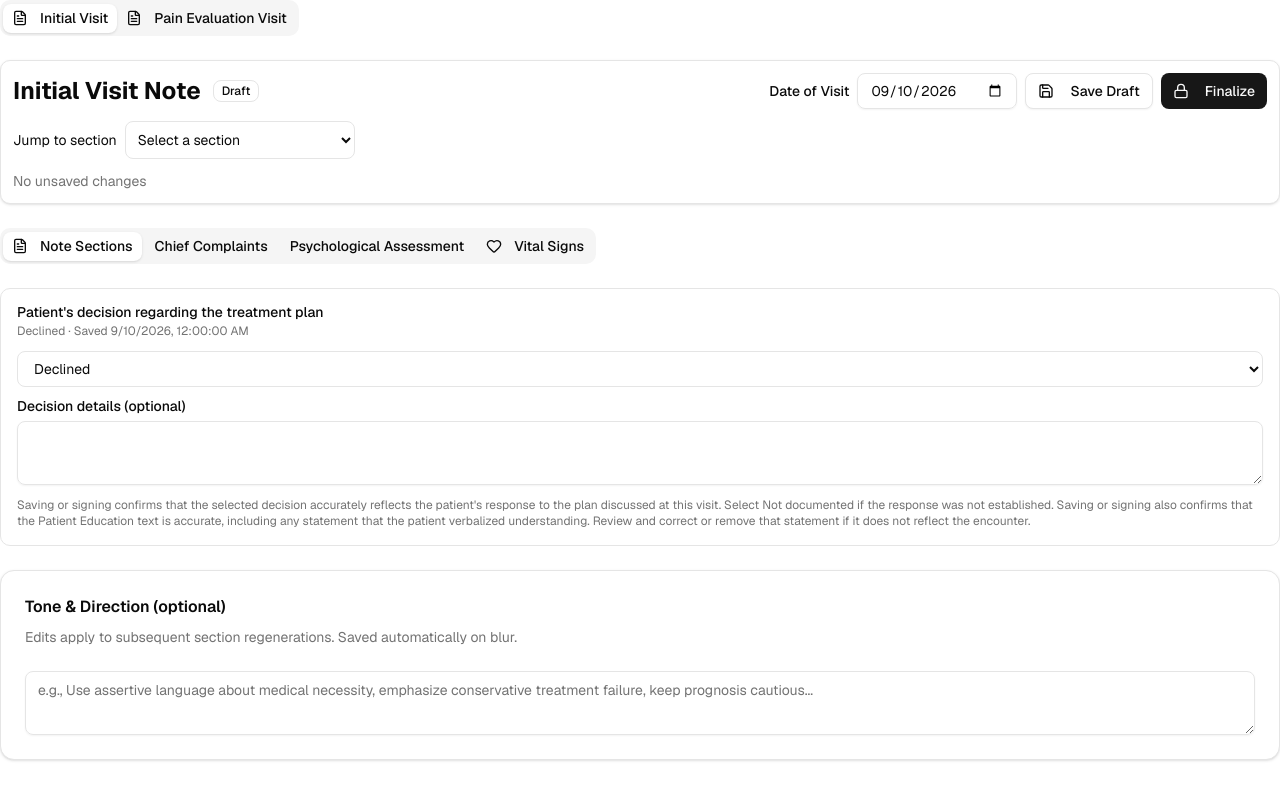
Test case: distinguishes initial_visit finalization failure after a successful save
Click the button "Finalize" at (1214, 91), box x1=1161 y1=73 x2=1267 y2=109
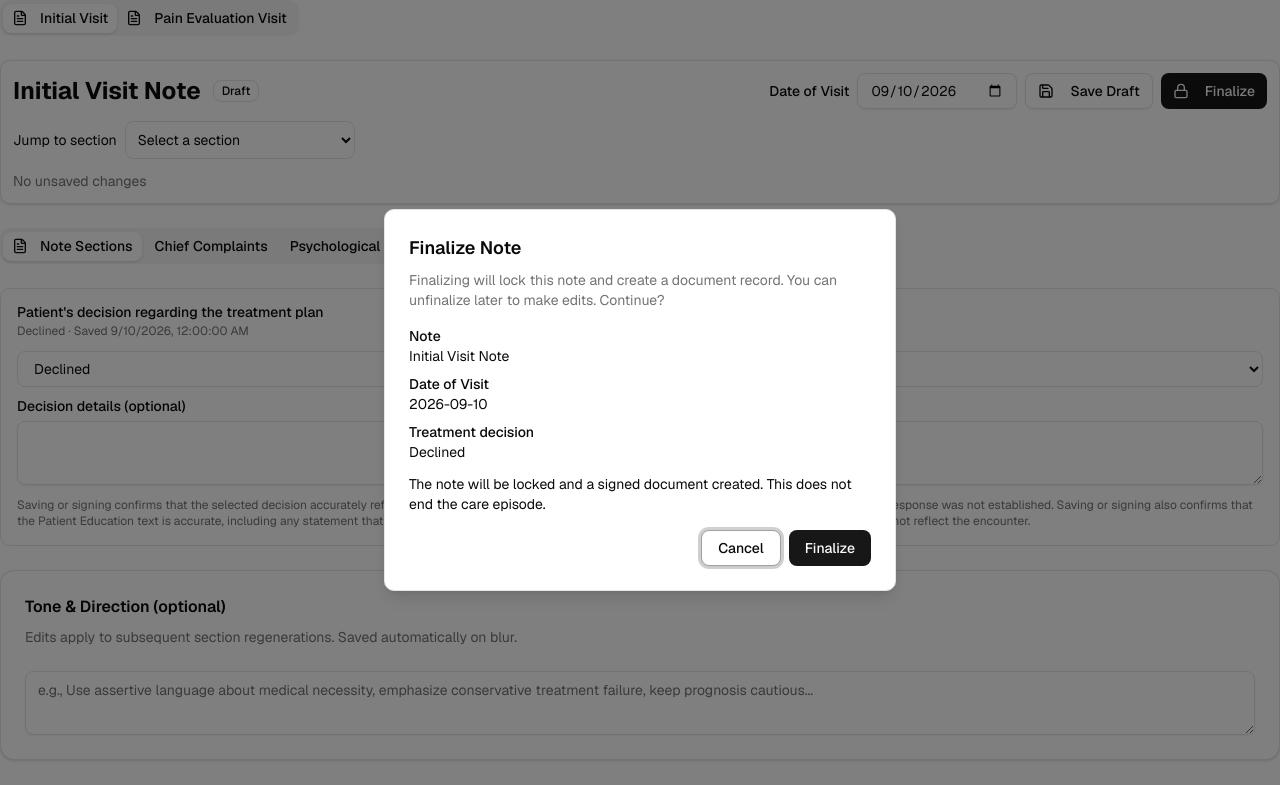
Now the text "2026-09-10" is shown, box x1=409 y1=395 x2=488 y2=413
Click the button "Finalize" at (830, 548), box x1=789 y1=530 x2=871 y2=566
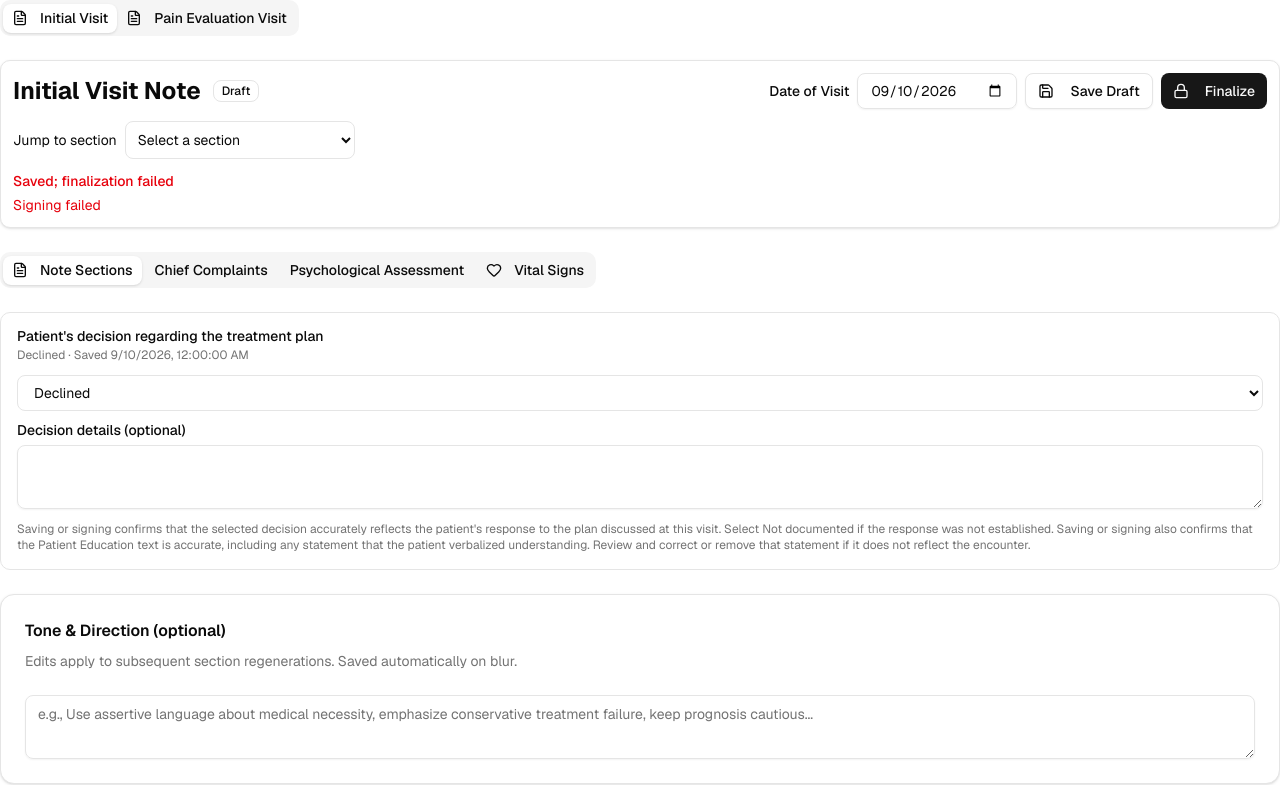
Now the text "Saved; finalization failed" is shown, box x1=13 y1=172 x2=174 y2=190
Now the text "Signing failed" is shown, box x1=13 y1=196 x2=101 y2=214
